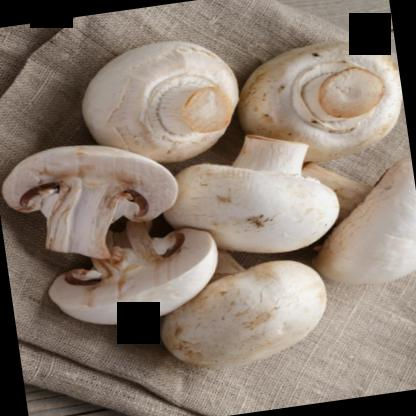mushroom: (0, 133, 186, 271), (226, 31, 408, 170), (160, 125, 338, 265), (148, 240, 332, 374), (72, 32, 245, 174), (38, 207, 222, 337), (300, 148, 415, 294)
